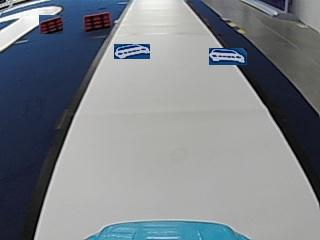bomb: (84, 11, 110, 29)
